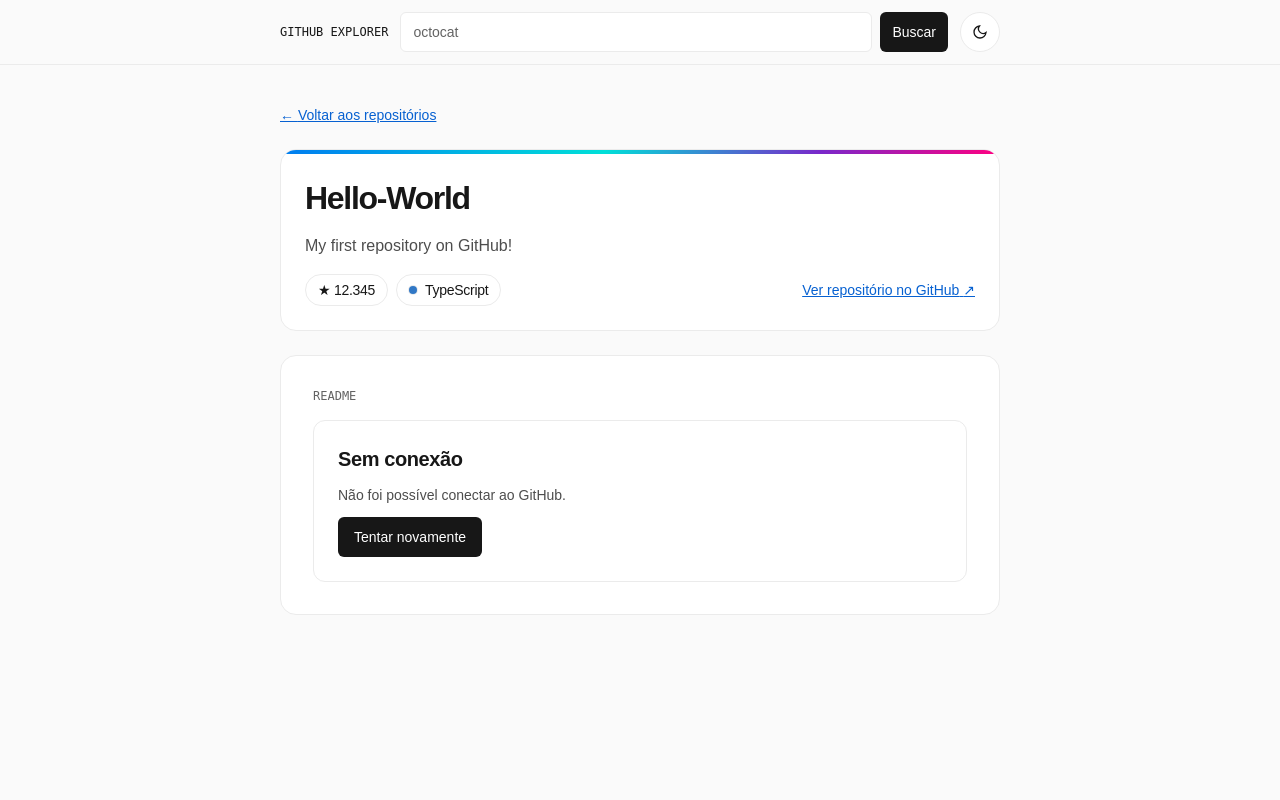
repository detail route › readme › readme retry makes one request
Expected: the message shows "Não foi possível conectar ao GitHub.", [338,487,566,503]
Click the button "Tentar novamente": coordinates (410, 537) [338,517,482,557]
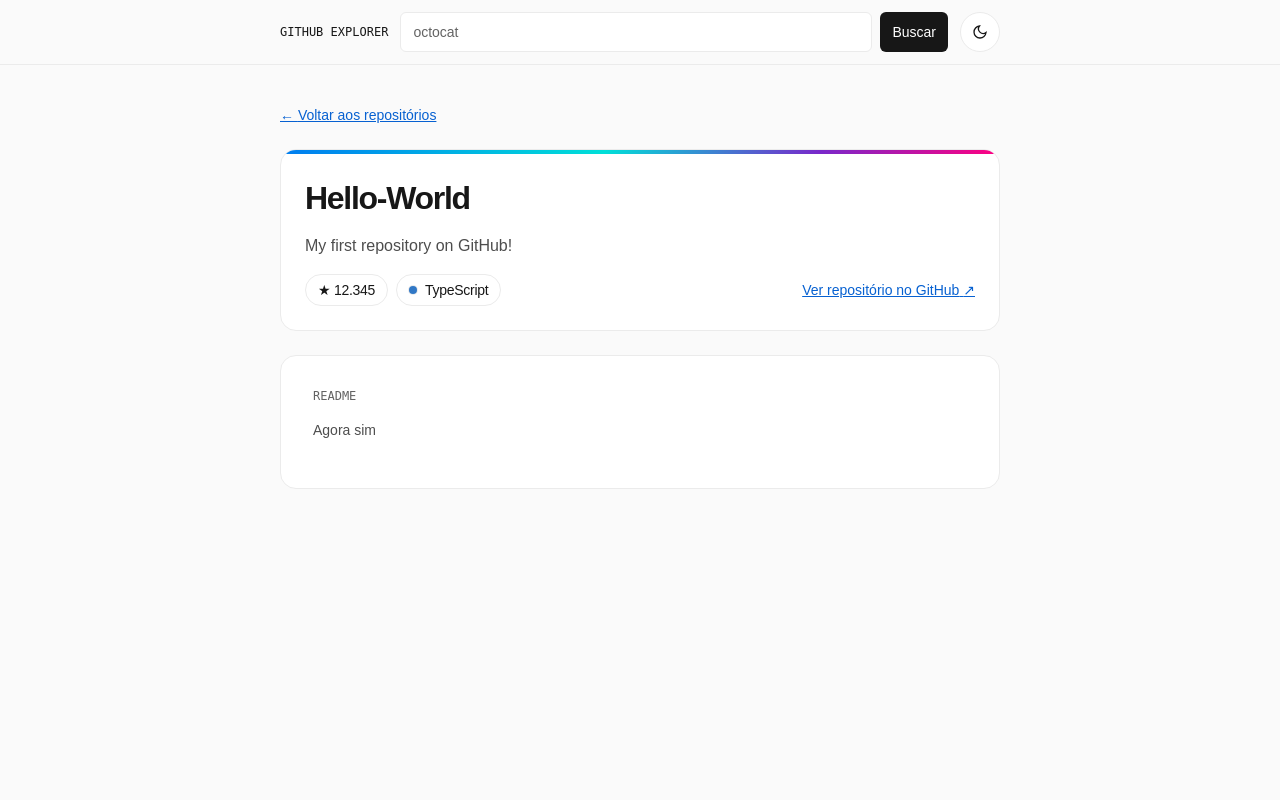
Expected: the text "Agora sim" is shown, [313,422,376,438]
